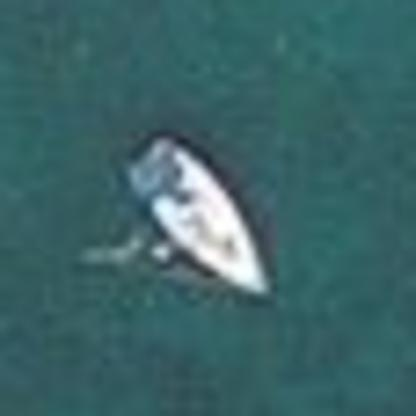ship: (108, 122, 284, 302)
